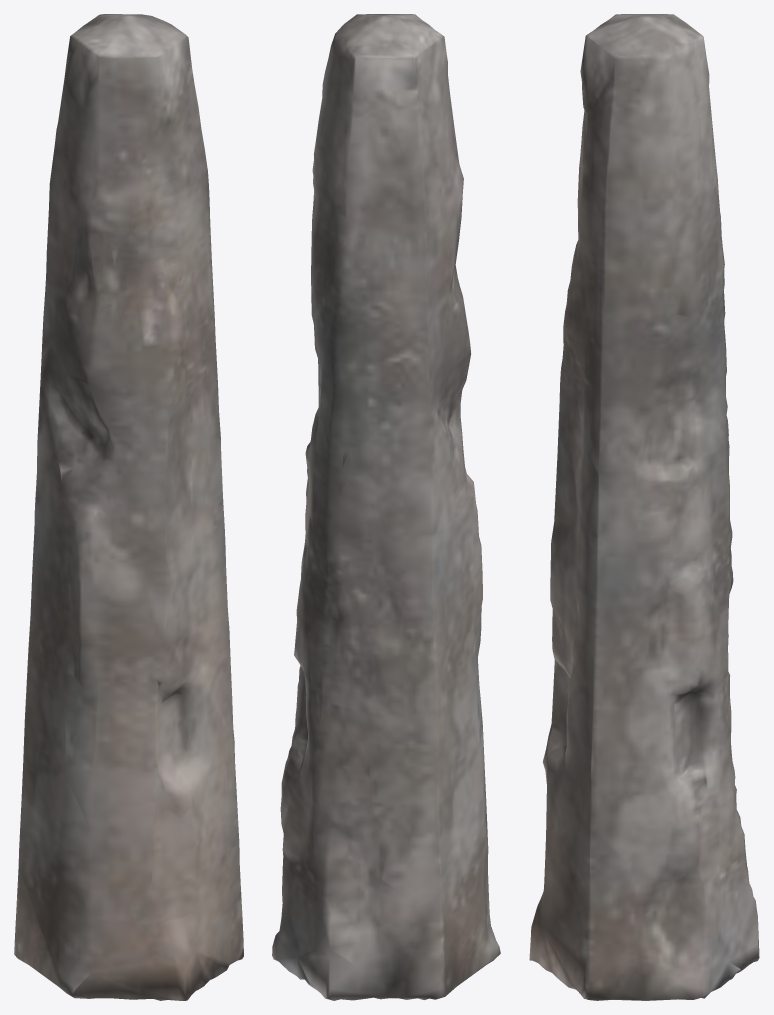
Rendered from SM_stalagmite_03.glb.
3 views of the same model, side by side, from view 1: azimuth 30°, elevation 25°; view 2: azimuth 150°, elevation 25°; view 3: azimuth 270°, elevation 25° (orthographic).
Parts seen in each view (by area): view 1: SM_stalactic_03; view 2: SM_stalactic_03; view 3: SM_stalactic_03.
Boxes of the visible parts, x1,y1,x2,y2 form: SM_stalactic_03: (14,14,243,1000); SM_stalactic_03: (272,14,500,1000); SM_stalactic_03: (529,14,759,1000).
Size of the model in its own units: 0.8929 by 4.63 by 1.02.
Materials: 1 (1 with a texture image).
